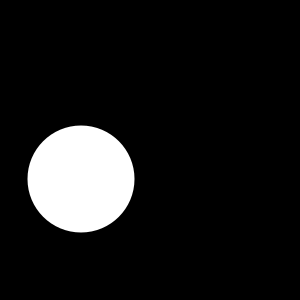rectangle: (28, 126, 134, 232), (105, 166, 121, 182)
